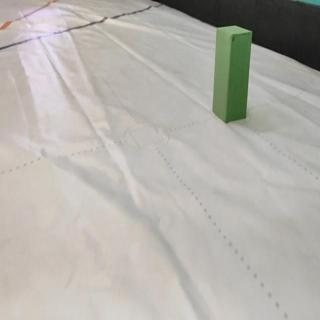greenbox: (212, 23, 252, 123)
